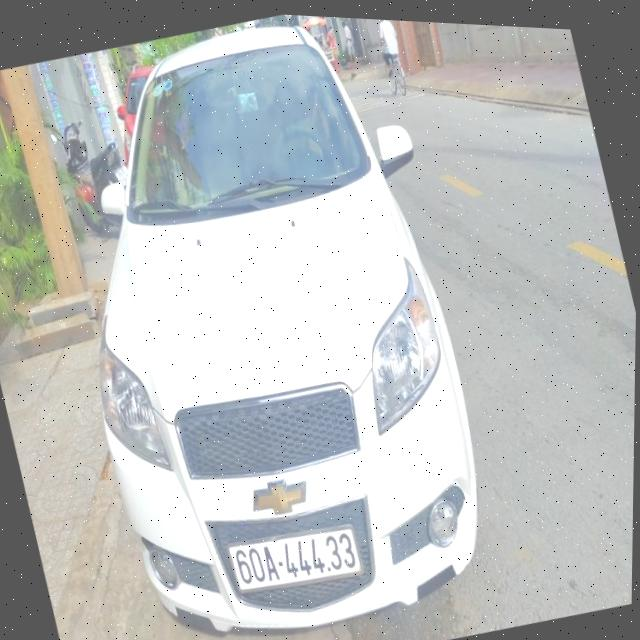car: (15, 1, 531, 640)
motorcycle: (375, 52, 417, 102)
plate: (221, 509, 369, 606)
